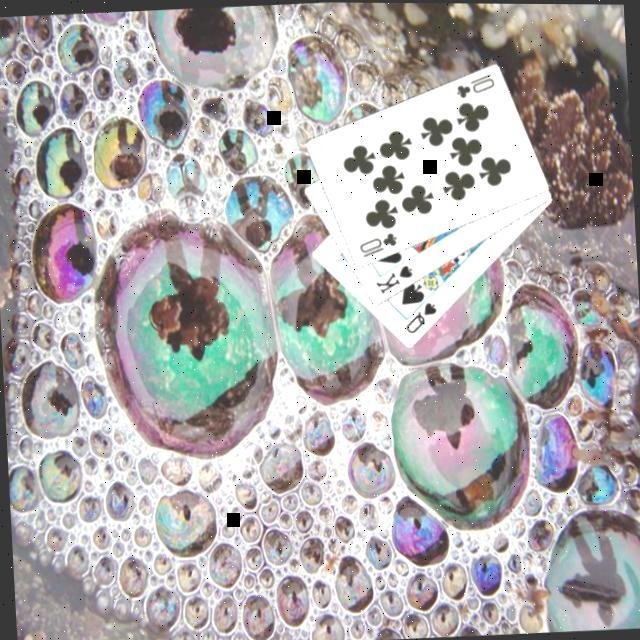10C: (452, 70, 500, 102), (356, 230, 402, 262)
KS: (372, 262, 418, 298)
QS: (402, 298, 442, 338)
